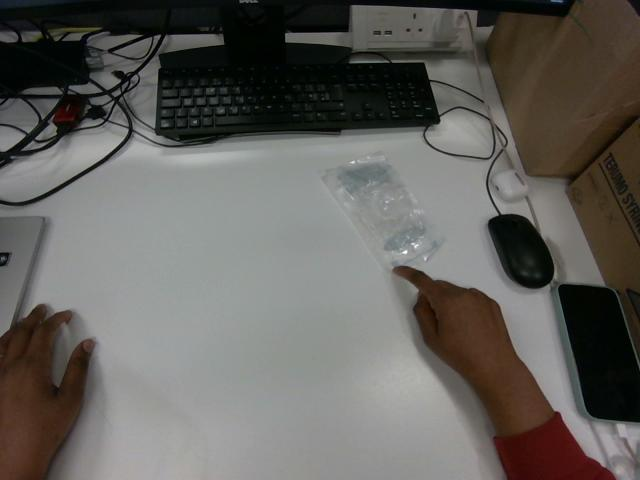gallipot: (323, 153, 443, 267)
